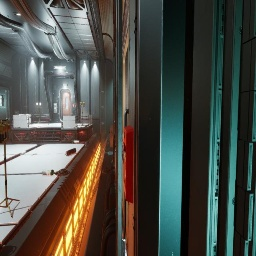0: (42, 169, 56, 175), (20, 151, 27, 156), (72, 141, 79, 143)
EmergencyPhone ,: (74, 102, 76, 107)
FireAlarm ,: (124, 125, 134, 204), (73, 104, 74, 107)
FirstAidBox ,: (61, 124, 63, 127)
NitrogenTank ,: (66, 148, 76, 156)
SafetySwitchPanel ,: (109, 124, 113, 148), (0, 95, 3, 106), (54, 103, 57, 113), (15, 111, 19, 115)
